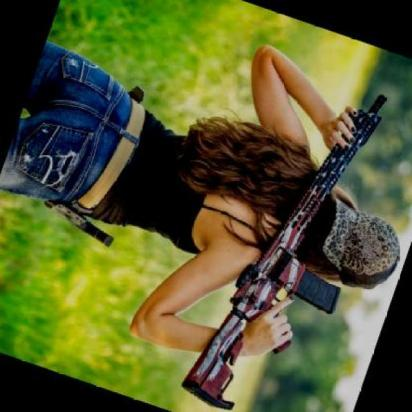Gun: (184, 95, 388, 406)
